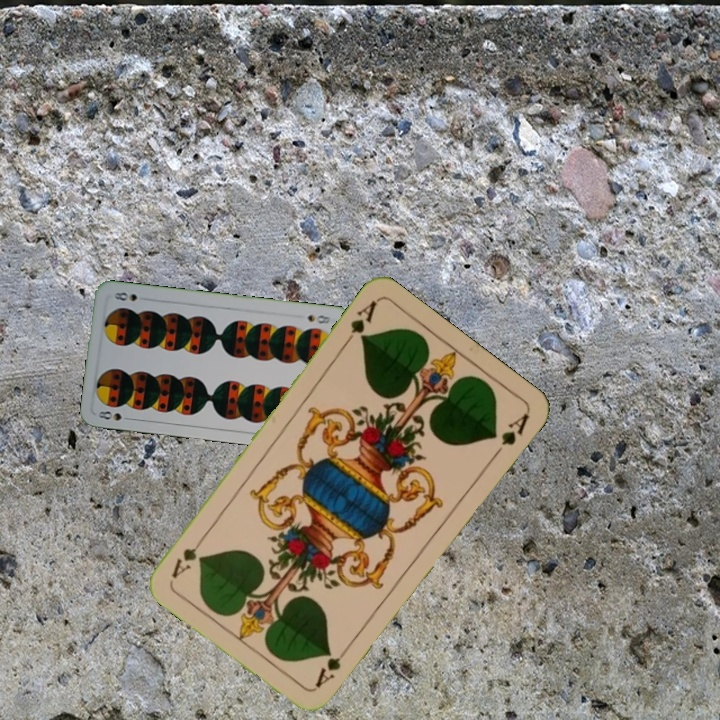GA: (311, 641, 353, 691), (339, 296, 379, 348)
S8: (94, 407, 135, 423), (303, 311, 333, 326)
